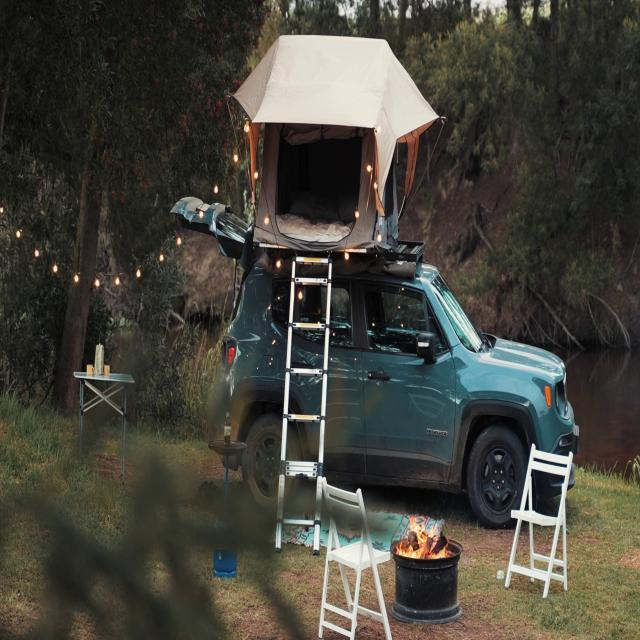Fire: (396, 511, 448, 562)
